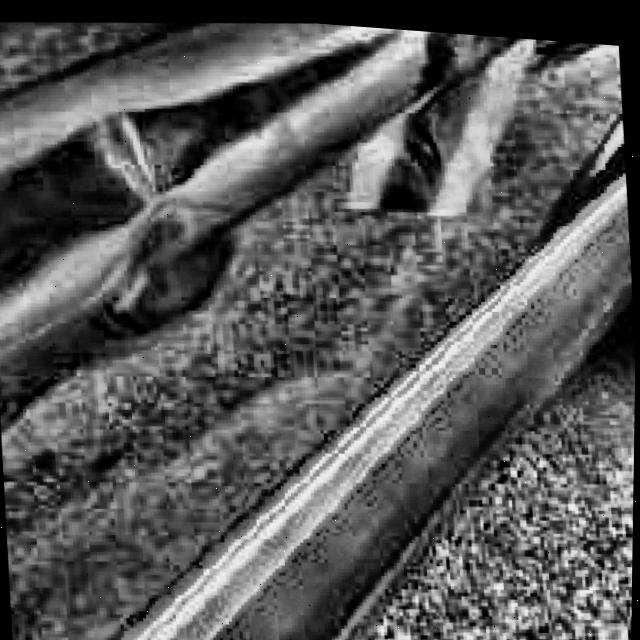door_dent: (56, 114, 254, 335), (340, 45, 518, 229)
